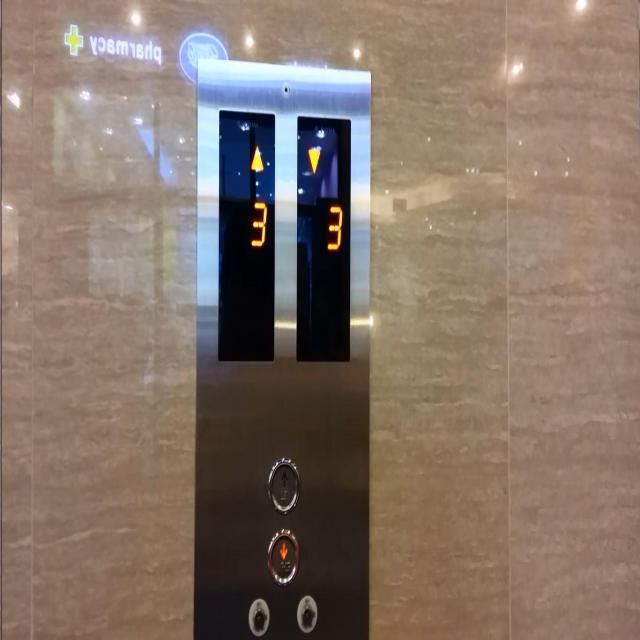down: (268, 527, 298, 583)
keyhole: (248, 597, 269, 636), (296, 594, 317, 632)
led: (217, 106, 277, 363), (295, 113, 351, 362)
up: (267, 457, 299, 515)
